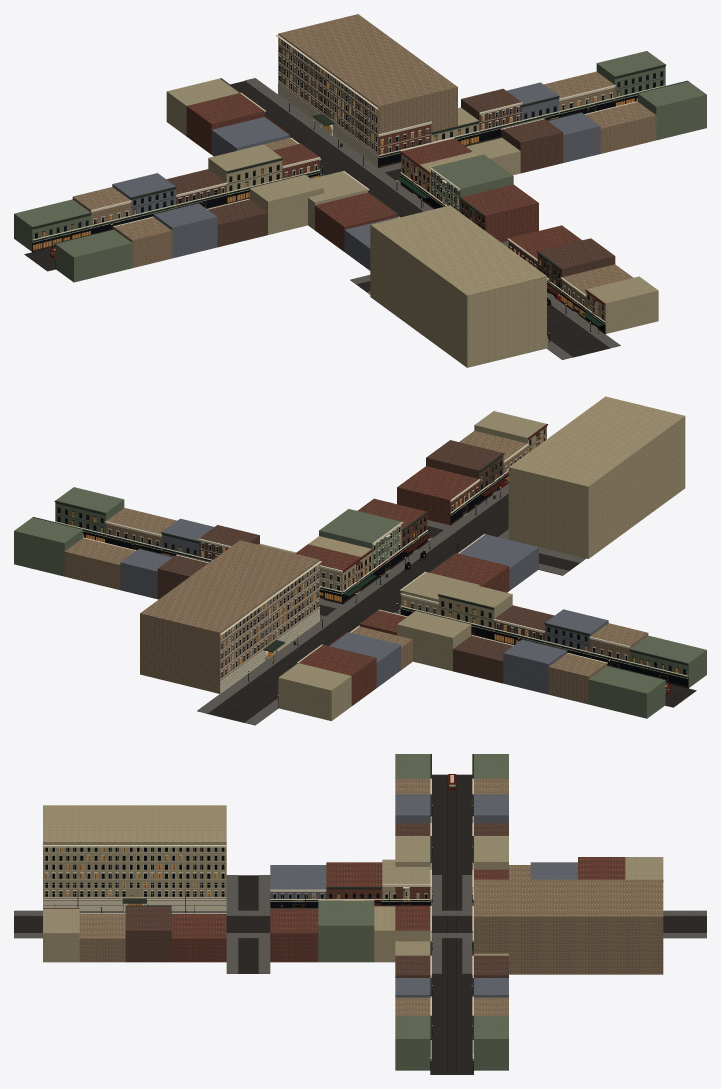
File: kearny.glb
The picture shows the model from 3 angles, top to bottom: view 1: azimuth 30°, elevation 25°; view 2: azimuth 150°, elevation 25°; view 3: azimuth 270°, elevation 25°; orthographic projection. The views are drawn at different scales.
Parts seen in each view (by area): view 1: brick_tan, sandstone, clap_cream, clap_sage, brick_red, clap_grey, brick_brown, trim_cream, asphalt, glass_dark, trim_dark, flags (+6 smaller); view 2: brick_tan, sandstone, clap_sage, clap_cream, clap_grey, brick_red, trim_cream, asphalt, brick_brown, glass_dark, flags, trim_dark (+5 smaller); view 3: brick_tan, sandstone, asphalt, brick_red, clap_sage, trim_cream, clap_cream, clap_grey, flags, brick_brown, glass_dark, trim_dark (+2 smaller).
Part boxes in pixels (box(x1,y1,x2,y2)): brick_tan: box(72, 14, 656, 309); sandstone: box(370, 152, 546, 367); clap_cream: box(166, 78, 658, 333); clap_sage: box(14, 51, 706, 282); brick_red: box(186, 93, 581, 268); clap_grey: box(112, 82, 600, 270); brick_brown: box(166, 88, 615, 291); trim_cream: box(33, 35, 665, 347); asphalt: box(24, 81, 609, 357); glass_dark: box(33, 41, 662, 331); trim_dark: box(32, 64, 688, 287); flags: box(24, 78, 620, 359); brick_tan: box(64, 430, 648, 704); sandstone: box(308, 396, 685, 594); clap_sage: box(14, 487, 706, 718); clap_cream: box(259, 411, 546, 720); clap_grey: box(120, 518, 608, 694); brick_red: box(295, 466, 509, 705); trim_cream: box(55, 443, 687, 695); asphalt: box(208, 493, 696, 722); brick_brown: box(157, 440, 554, 683); glass_dark: box(58, 430, 687, 686); flags: box(197, 483, 696, 725); trim_dark: box(32, 453, 688, 692); brick_tan: box(79, 778, 663, 1015); sandstone: box(43, 805, 430, 962); asphalt: box(14, 774, 706, 1074); brick_red: box(171, 857, 625, 962); clap_sage: box(318, 754, 508, 1070); trim_cream: box(42, 778, 663, 1060); clap_cream: box(43, 836, 663, 962); clap_grey: box(270, 794, 577, 997); flags: box(14, 875, 706, 973); brick_brown: box(125, 823, 508, 977); glass_dark: box(45, 847, 429, 907); trim_dark: box(43, 754, 473, 1059).
Size of the model in its own units: 244 by 26.2 by 238.
32 materials, 14 textured.
